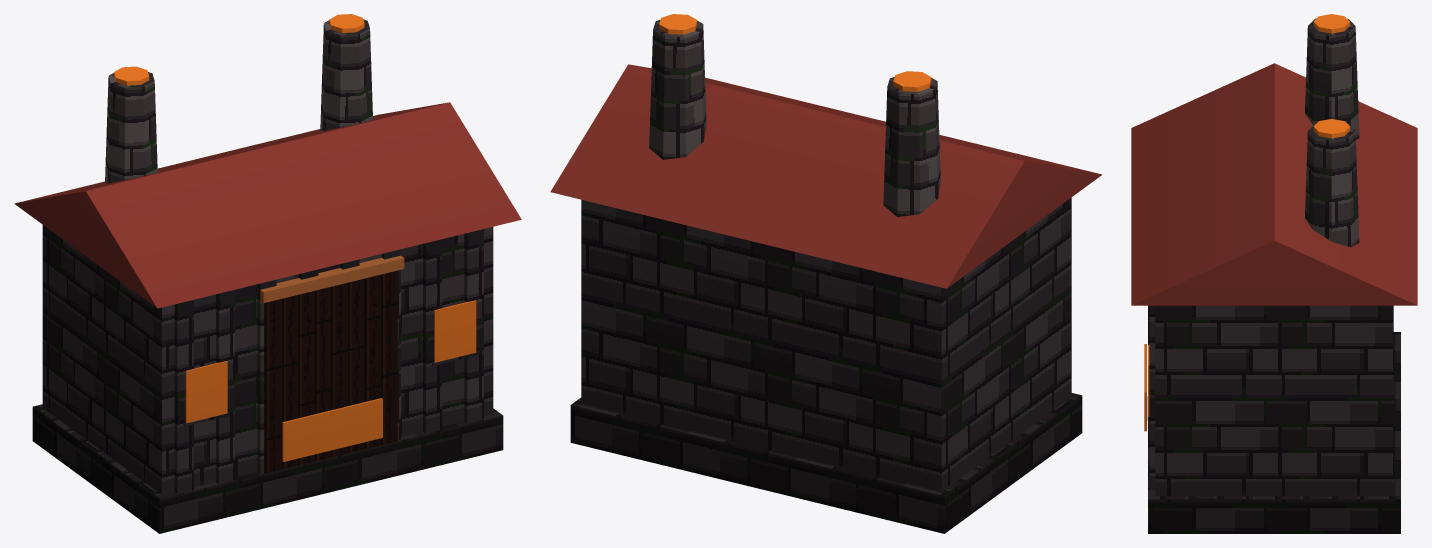
Rendered from forge_hall.glb.
3 views of the same model, side by side, from view 1: azimuth 30°, elevation 25°; view 2: azimuth 150°, elevation 25°; view 3: azimuth 270°, elevation 25° (orthographic). The views are drawn at different scales.
Parts seen in each view (by area): view 1: forge_hall; view 2: forge_hall; view 3: forge_hall.
Boxes of the visible parts, x1,y1,x2,y2 form: forge_hall: (14, 14, 521, 533); forge_hall: (550, 14, 1102, 533); forge_hall: (1131, 14, 1417, 533).
Size of the model in its own units: 8.8 by 8.7 by 6.
5 materials, 2 textured.
